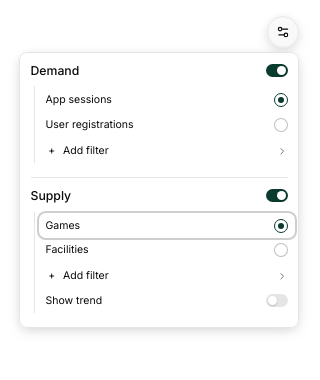
Test: defaults to Games and resets supply back to Games
Expected: the radio button labelled "Games" is checked, [38,213,294,238]
Press End in the element named "Supply", box [38,212,294,264]
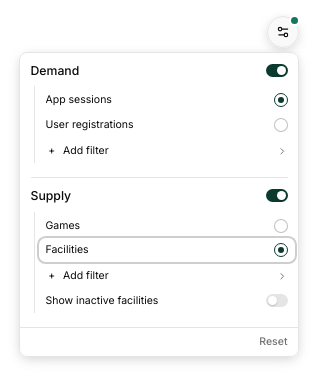
Press ArrowUp in the element named "Supply", box [38,212,294,264]
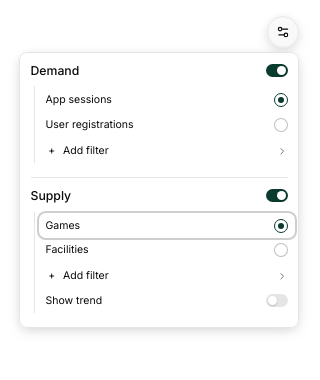
Press Home in the element named "Supply", box [38,212,294,264]
Click the radio button labelled "Facilities" at (67, 250), box [46,243,288,257]
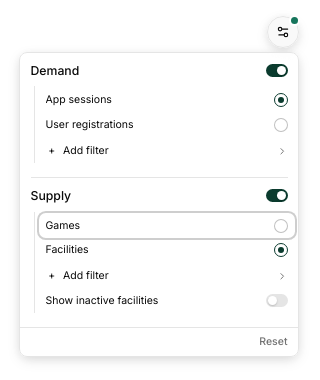
Expected: the radio button labelled "Facilities" is checked, [46,243,288,257]
Click the button "Reset" at (273, 342), box [252,332,294,352]
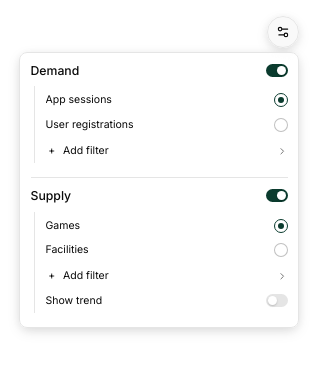
Expected: the radio button labelled "Games" is checked, [46,218,288,232]
